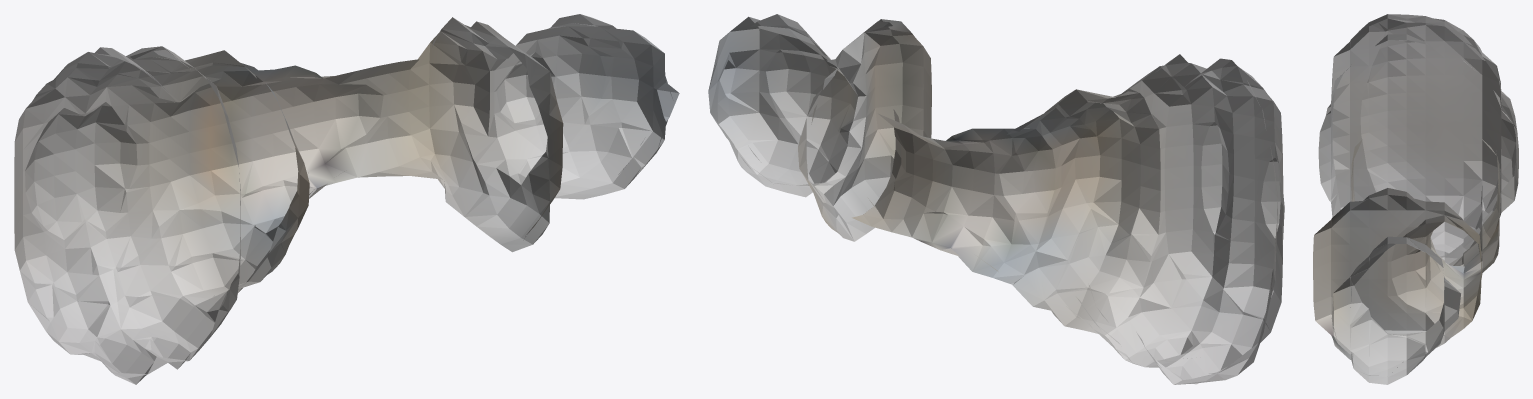
File: pawn.glb
The picture shows the model from 3 angles, left to right: view 1: azimuth 30°, elevation 25°; view 2: azimuth 150°, elevation 25°; view 3: azimuth 270°, elevation 25°; orthographic projection. The views are drawn at different scales.
Visible parts, largest first — view 1: world; view 2: world; view 3: world.
Boxes of the visible parts, x1=… form: world: x1=14, y1=14, x2=679, y2=384; world: x1=708, y1=14, x2=1284, y2=384; world: x1=1313, y1=14, x2=1518, y2=384.
Bounding box in the file's own units: 1.06 × 0.549 × 0.4027.
